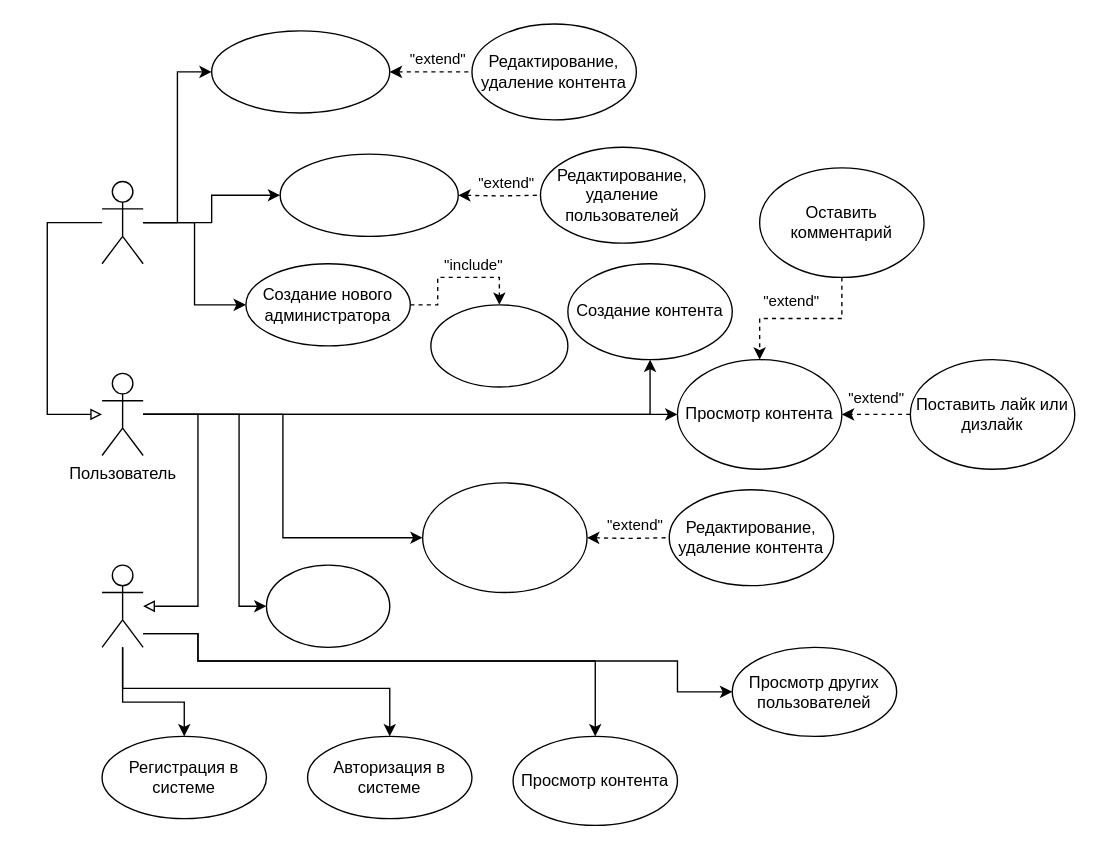
Image size: 1099x849. Some labels were removed from this diagram. The centre of each missing label's shape, as x and y in pixels:
"Администратор" belongs at [122,222].
"Анонимный пользователь" belongs at [122,605].
"Выход из системы" belongs at [327,605].
"Доступ к своему контенту" belongs at [504,537].
"Доступ ко всему контенту" belongs at [300,71].
"Просмотр информации о пользователях" belongs at [368,194].
"Создание инвайт-кода" belongs at [498,345].
